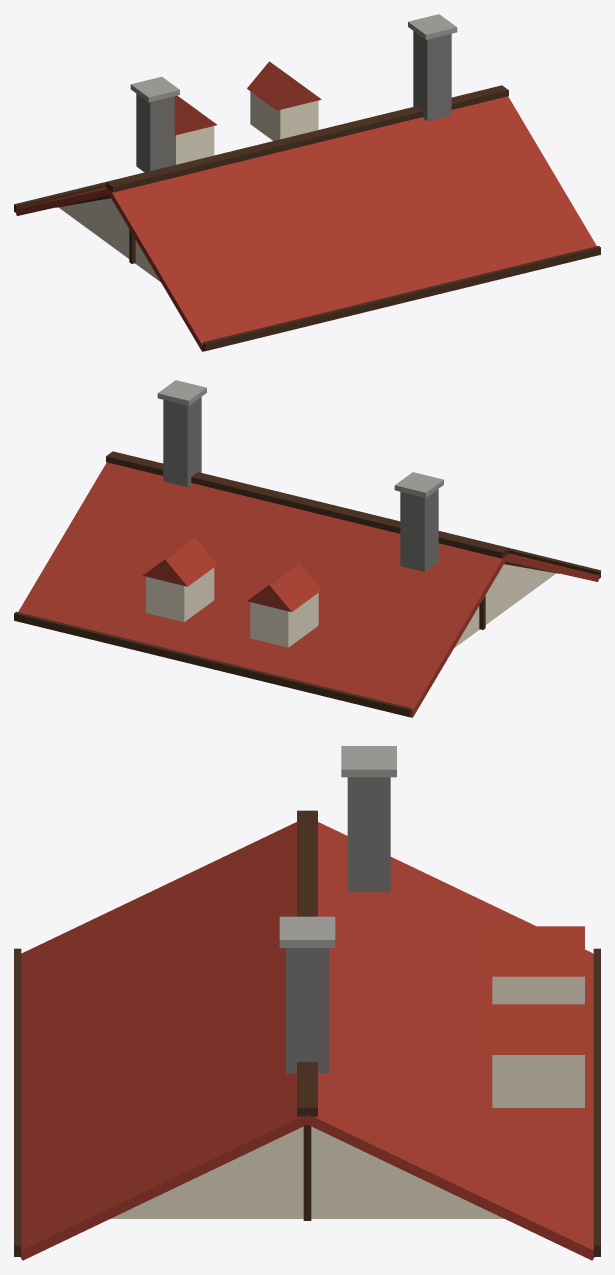
File: roof_inn.glb
The picture shows the model from 3 angles, top to bottom: view 1: azimuth 30°, elevation 25°; view 2: azimuth 150°, elevation 25°; view 3: azimuth 270°, elevation 25°; orthographic projection. The views are drawn at different scales.
Parts seen in each view (by area): view 1: roof_inn; view 2: roof_inn; view 3: roof_inn.
Part boxes in pixels (x1=…): roof_inn: x1=14, y1=14, x2=600, y2=351; roof_inn: x1=14, y1=380, x2=600, y2=717; roof_inn: x1=14, y1=746, x2=600, y2=1260.
Bounding box in the file's own units: 11.4 × 4.97 × 9.52.
